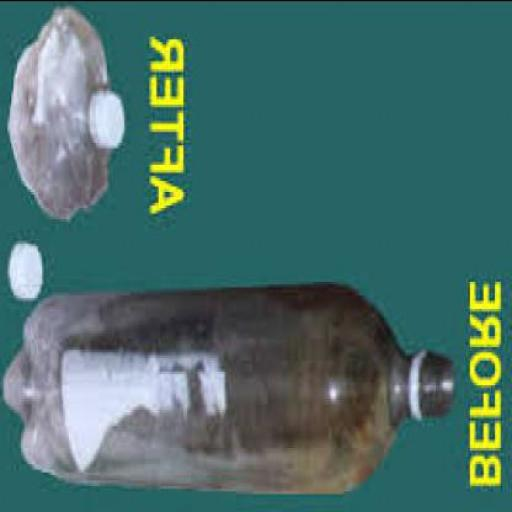plastic: (6, 284, 458, 495), (7, 8, 128, 223), (88, 90, 126, 150), (9, 246, 44, 302)
